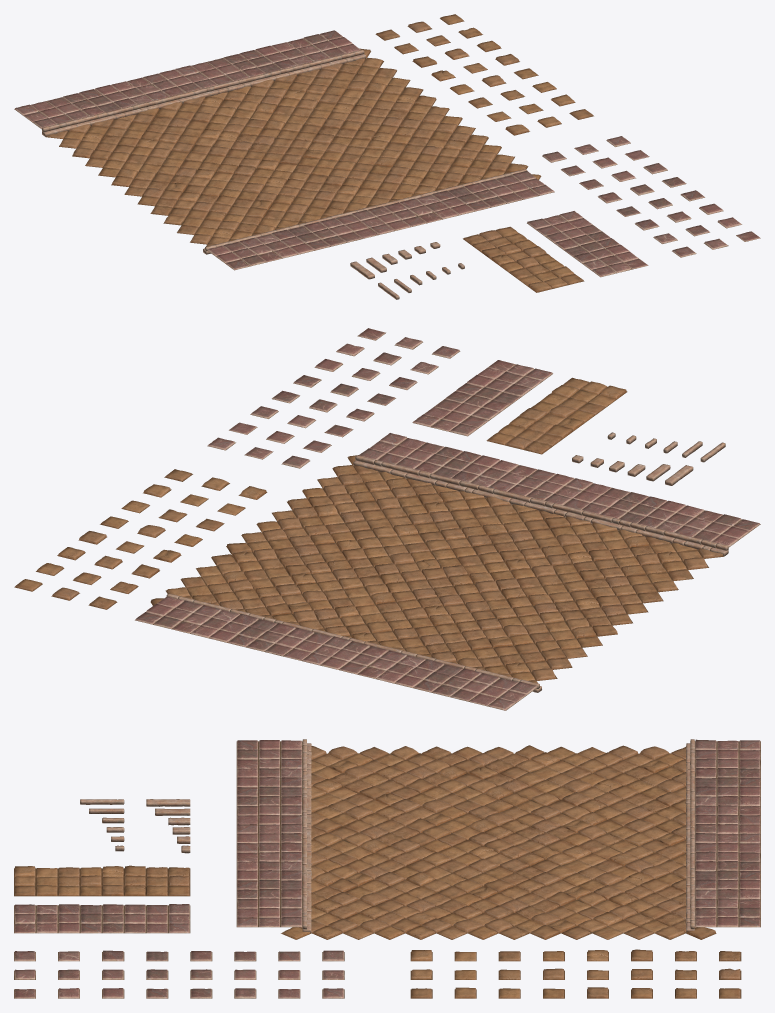
The model's file is stone_pavement_tiles.glb.
3 renders of one model, top to bottom at view 1: azimuth 30°, elevation 25°; view 2: azimuth 150°, elevation 25°; view 3: azimuth 270°, elevation 25°, orthographic. The views are drawn at different scales.
Parts seen in each view (by area): view 1: PavmentSandy45Deg20mExample, PavementRed20mExample01, PavementRed20mExample02, PavementSandyAll, PavementRedAll, Curb20mExample02, Curb20mExample01; view 2: PavmentSandy45Deg20mExample, PavementRed20mExample02, PavementRed20mExample01, PavementSandyAll, PavementRedAll, Curb20mExample01, Curb20mExample02; view 3: PavmentSandy45Deg20mExample, PavementRed20mExample01, PavementRed20mExample02, PavementSandyAll, PavementRedAll, Curb20mExample01, Curb20mExample02.
Part boxes in pixels (x1=…): PavmentSandy45Deg20mExample: x1=46, y1=48, x2=541, y2=246; PavementRed20mExample01: x1=207, y1=171, x2=554, y2=270; PavementRed20mExample02: x1=14, y1=30, x2=360, y2=129; PavementSandyAll: x1=463, y1=226, x2=584, y2=292; PavementRedAll: x1=527, y1=211, x2=648, y2=277; Curb20mExample02: x1=42, y1=49, x2=365, y2=136; Curb20mExample01: x1=203, y1=169, x2=527, y2=254; PavmentSandy45Deg20mExample: x1=150, y1=455, x2=723, y2=683; PavementRed20mExample02: x1=135, y1=596, x2=537, y2=710; PavementRed20mExample01: x1=358, y1=433, x2=760, y2=547; PavementSandyAll: x1=486, y1=377, x2=627, y2=454; PavementRedAll: x1=412, y1=360, x2=552, y2=436; Curb20mExample01: x1=353, y1=455, x2=728, y2=556; Curb20mExample02: x1=166, y1=593, x2=541, y2=692; PavmentSandy45Deg20mExample: x1=281, y1=745, x2=716, y2=939; PavementRed20mExample01: x1=236, y1=740, x2=302, y2=927; PavementRed20mExample02: x1=695, y1=739, x2=760, y2=927; PavementSandyAll: x1=14, y1=865, x2=190, y2=896; PavementRedAll: x1=14, y1=904, x2=190, y2=933; Curb20mExample01: x1=302, y1=739, x2=311, y2=932; Curb20mExample02: x1=685, y1=739, x2=695, y2=932.
Bounding box in the file's own units: 27.01 × 0.4336 × 33.9.
Materials: 1 (1 with a texture image).
